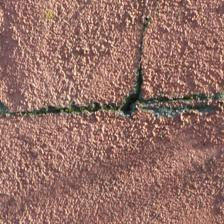Crack: (79, 47, 142, 105), (194, 0, 224, 82)
